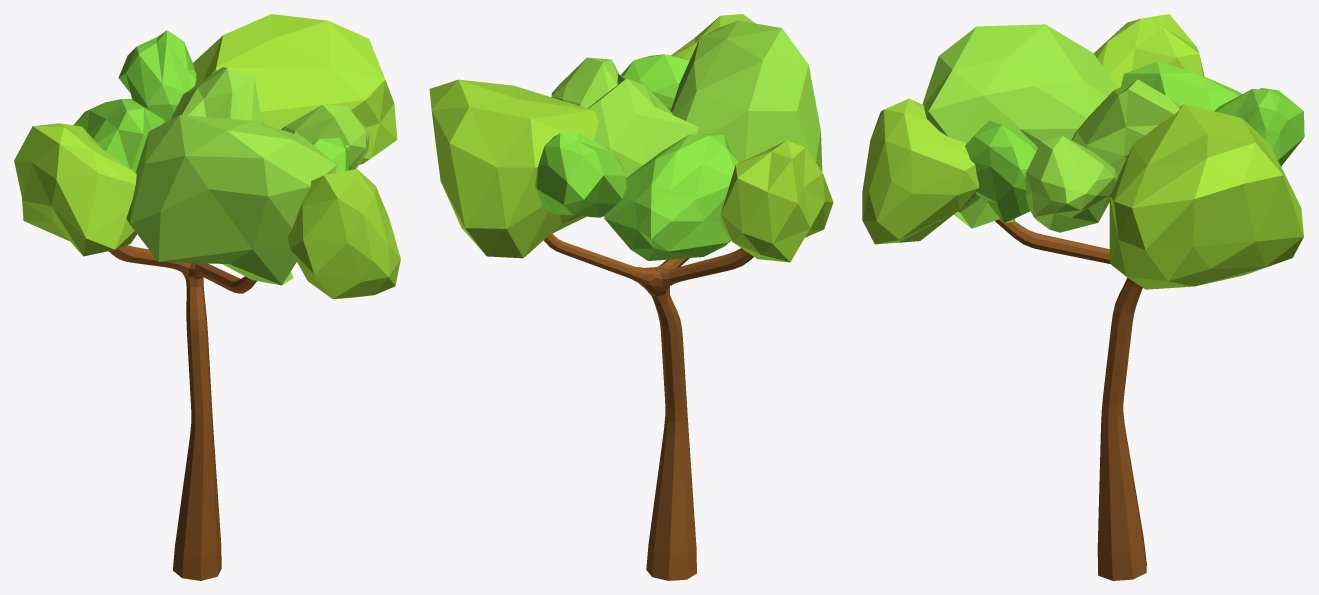
The model's file is leaftree.fbx.
3 renders of one model, left to right at view 1: azimuth 30°, elevation 25°; view 2: azimuth 150°, elevation 25°; view 3: azimuth 270°, elevation 25°, orthographic. The views are drawn at different scales.
Parts seen in each view (by area): view 1: Stump; view 2: Stump; view 3: Stump.
Boxes of the visible parts, x1,y1,x2,y2 form: Stump: [14, 14, 400, 580]; Stump: [429, 14, 833, 580]; Stump: [862, 14, 1304, 580].
Size of the model in its own units: 1112 by 1460 by 1115.
